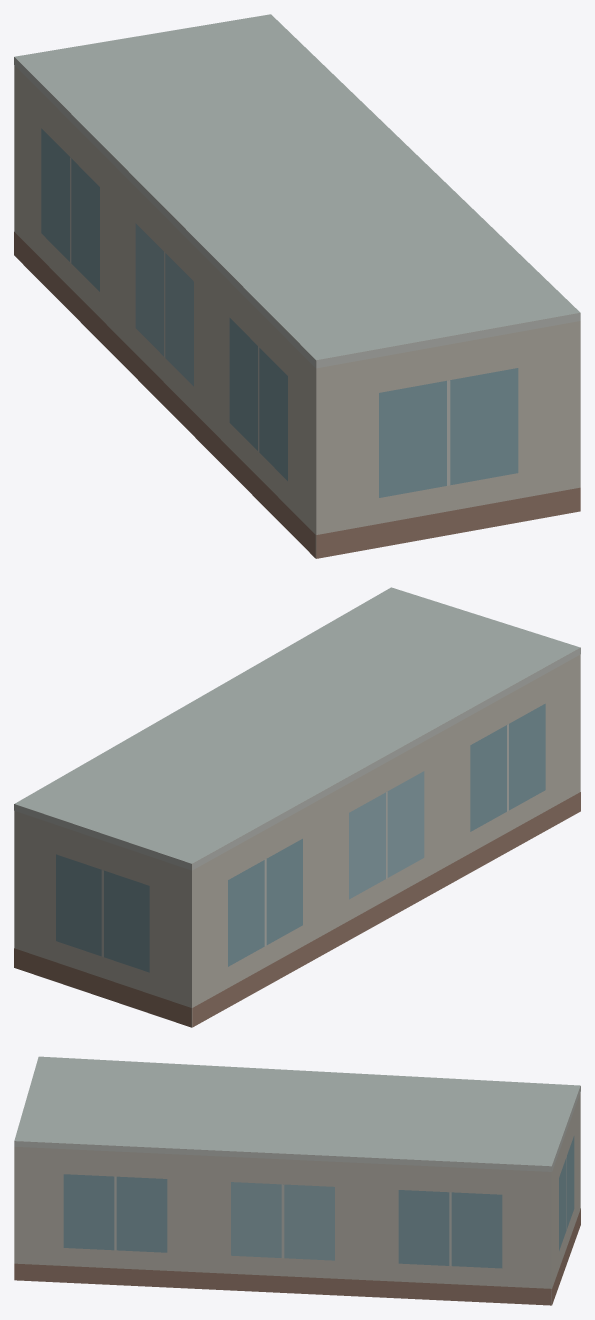
File: survey-upis-32804201.glb
3 renders of one model, top to bottom at view 1: azimuth 30°, elevation 25°; view 2: azimuth 150°, elevation 25°; view 3: azimuth 270°, elevation 25°, orthographic. The views are drawn at different scales.
Parts seen in each view (by area): view 1: survey-upis-32804201.tmp; view 2: survey-upis-32804201.tmp; view 3: survey-upis-32804201.tmp.
Part boxes in pixels (box(x1,y1,x2,y2)): survey-upis-32804201.tmp: box(14, 14, 580, 558); survey-upis-32804201.tmp: box(14, 587, 580, 1027); survey-upis-32804201.tmp: box(14, 1056, 580, 1305).
Bounding box in the file's own units: 5.17 × 3.05 × 11.26.
